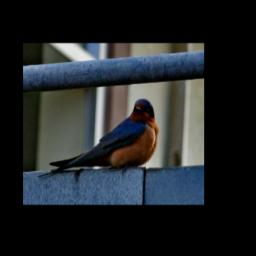Swallow: (37, 98, 159, 178)
